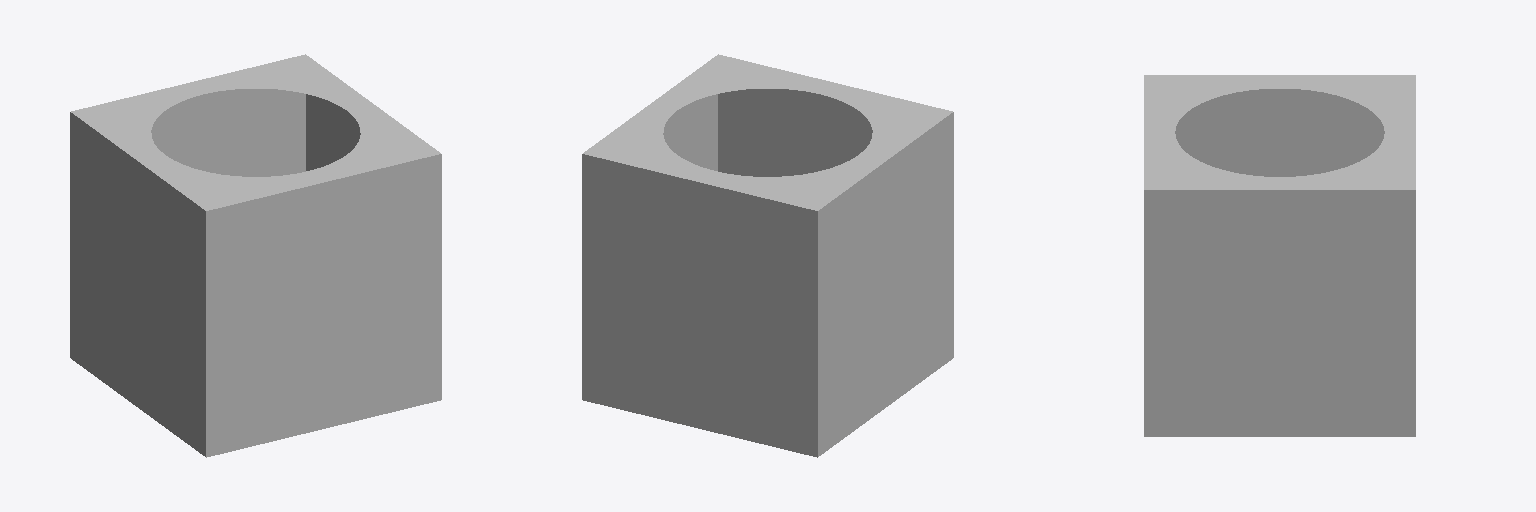
File: Circle_cube_bottle_base_preprocessed.obj
The picture shows the model from 3 angles: view 1: azimuth 30°, elevation 25°; view 2: azimuth 150°, elevation 25°; view 3: azimuth 270°, elevation 25°; orthographic projection.
Size of the model in its own units: 0.08 by 0.08 by 0.08.